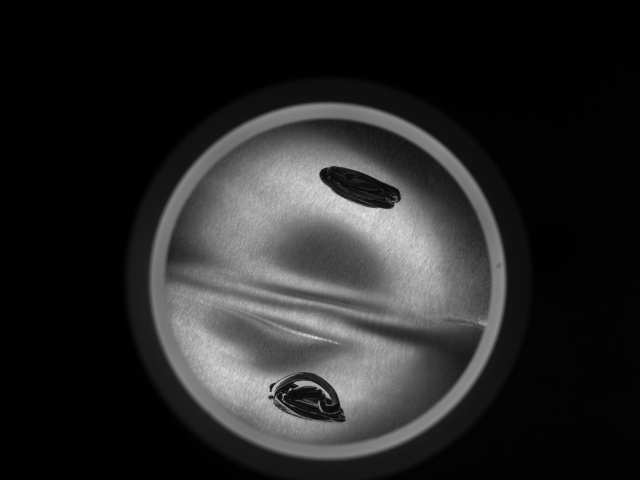zang_wu: (266, 370, 350, 423), (317, 165, 404, 213)
zhe_zhou: (201, 154, 449, 409)
